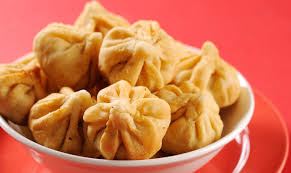modak: (85, 80, 173, 162), (146, 72, 230, 153), (99, 17, 176, 93), (29, 21, 110, 92), (27, 92, 104, 161), (169, 39, 246, 106)
